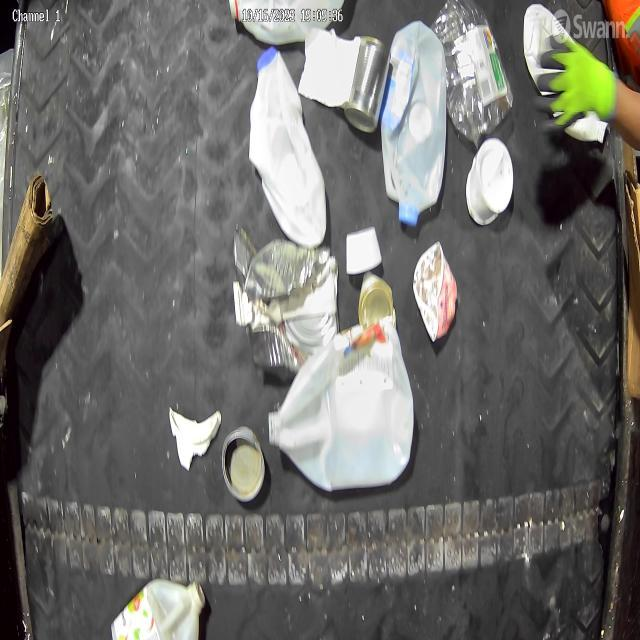can: (242, 241, 342, 380), (342, 33, 392, 135), (221, 424, 266, 504), (357, 270, 395, 326)
milk_jug: (268, 317, 416, 492), (247, 38, 329, 248), (379, 18, 450, 232), (110, 572, 208, 640), (228, 0, 346, 48)
